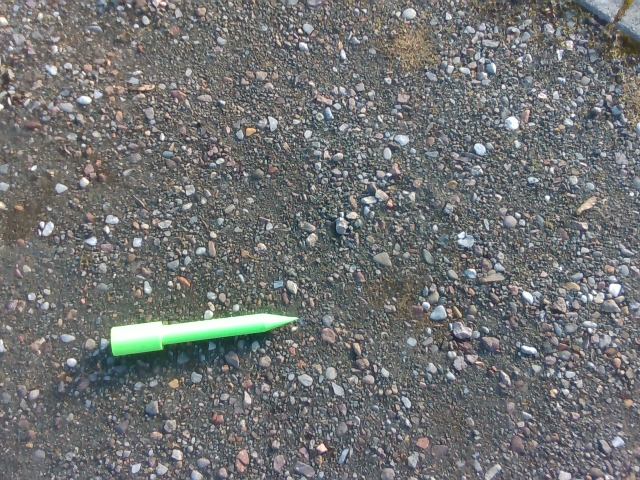Probe: (107, 307, 307, 365)
